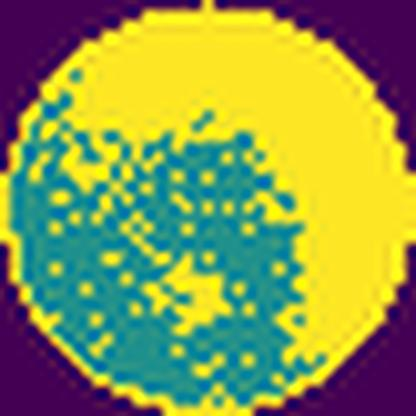Edge-Loc: (67, 0, 415, 361)
